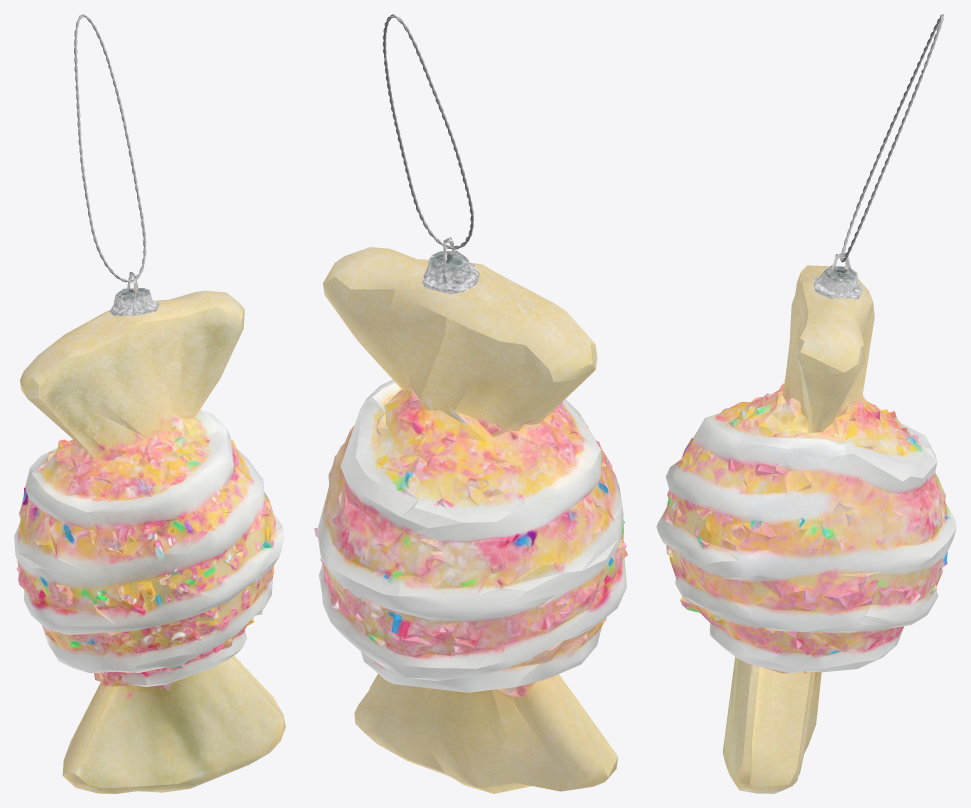
File: sprinkled_candy.glb
3 views of the same model, side by side, from view 1: azimuth 30°, elevation 25°; view 2: azimuth 150°, elevation 25°; view 3: azimuth 270°, elevation 25° (orthographic). The views are drawn at different scales.
Visible parts, largest first — view 1: Mesh1.0, GN Instance; view 2: Mesh1.0, GN Instance; view 3: Mesh1.0, GN Instance.
Part boxes in pixels (x1,y1,x2,y2): Mesh1.0: [14, 272, 285, 793]; GN Instance: [74, 14, 146, 282]; Mesh1.0: [314, 237, 627, 793]; GN Instance: [382, 14, 473, 249]; Mesh1.0: [656, 253, 956, 793]; GN Instance: [840, 14, 943, 262].
Size of the model in its own units: 0.0776 by 0.2318 by 0.0839.
Materials: 3 (2 with a texture image).
